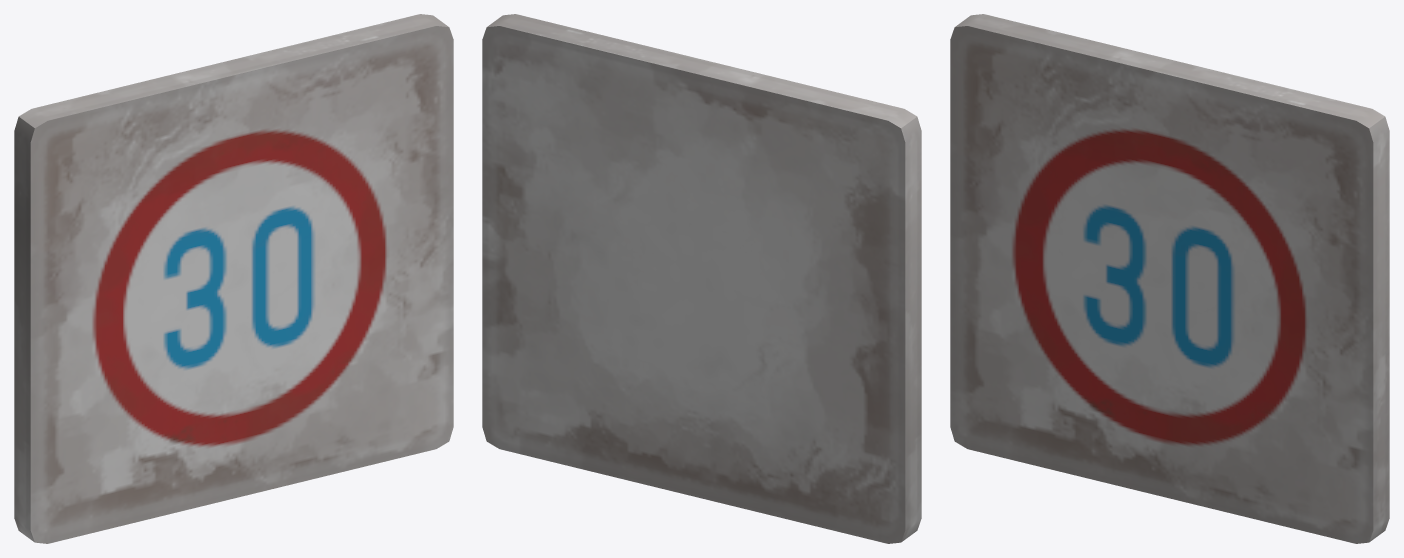
Rendered from SM_roadsign_30zone.fbx.
3 views of the same model, side by side, from view 1: azimuth 30°, elevation 25°; view 2: azimuth 150°, elevation 25°; view 3: azimuth 330°, elevation 25° (orthographic).
Visible parts, largest first — view 1: Box326; view 2: Box326; view 3: Box326.
Boxes of the visible parts, x1,y1,x2,y2 form: Box326: [14, 14, 453, 543]; Box326: [482, 14, 921, 543]; Box326: [950, 14, 1389, 543].
Bounding box in the file's own units: 21.77 × 20.81 × 1.45.
